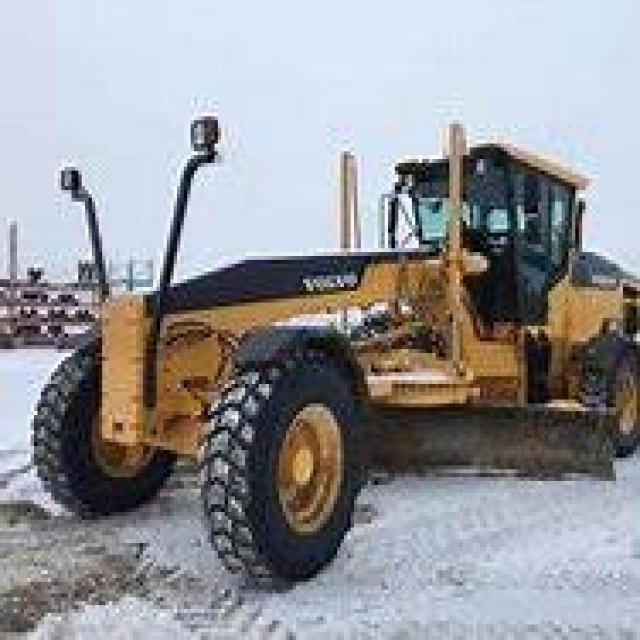Grader: (17, 93, 637, 594)
